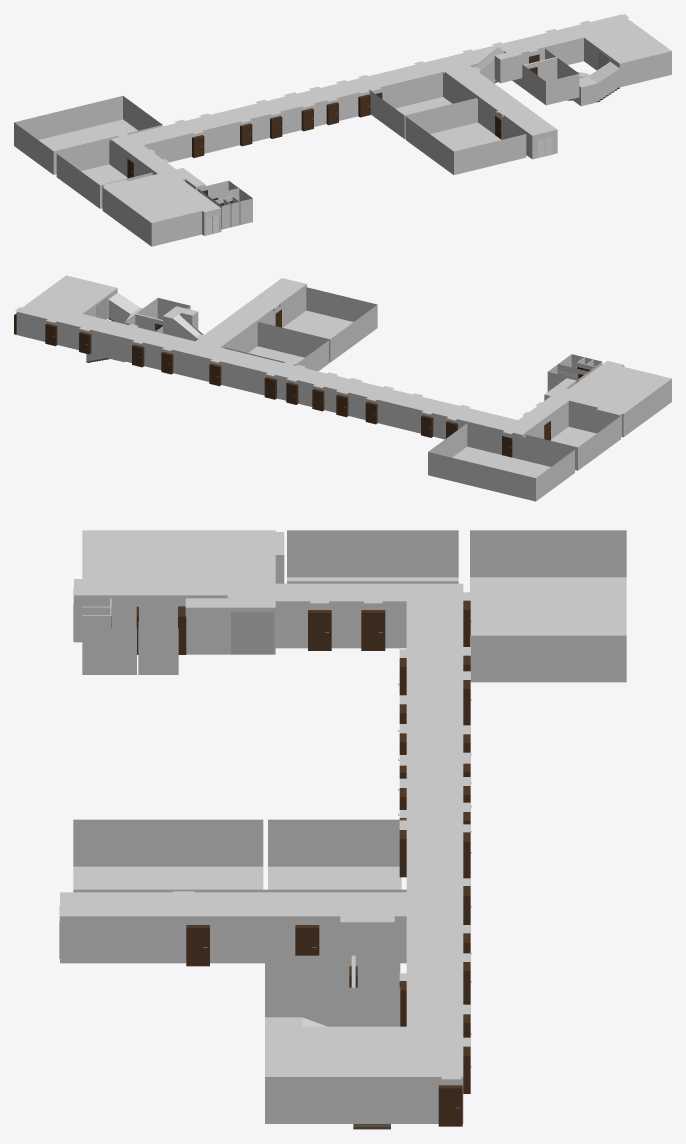
Rendered from floor3.fbx.
3 views of the same model, one above another, from view 1: azimuth 30°, elevation 25°; view 2: azimuth 150°, elevation 25°; view 3: azimuth 270°, elevation 25° (orthographic). The views are drawn at different scales.
Parts seen in each view (by area): view 1: Walls, Ceiling; view 2: Walls, Ceiling; view 3: Walls, Ceiling, Double door.
Part boxes in pixels (box(x1,y1,x2,y2)): Walls: box(14, 37, 671, 246); Ceiling: box(102, 14, 671, 222); Walls: box(16, 284, 671, 501); Ceiling: box(15, 275, 671, 434); Walls: box(60, 530, 626, 1129); Ceiling: box(60, 530, 470, 1079); Double door: box(231, 611, 274, 654).
Size of the model in its own units: 6304 by 704 by 2749.
